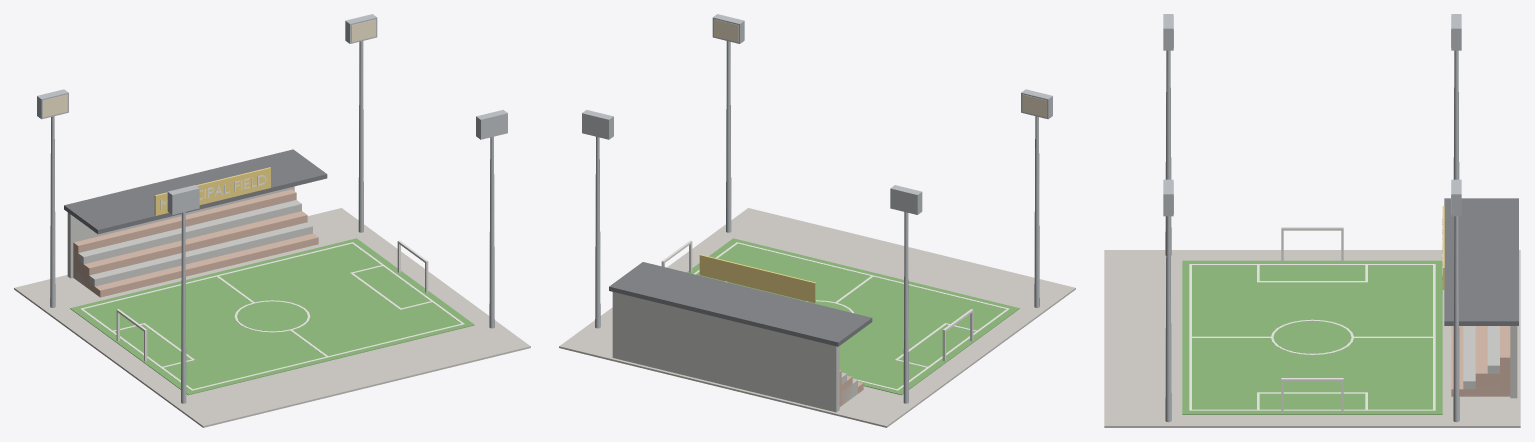
Rendered from sports_field.glb.
3 views of the same model, side by side, from view 1: azimuth 30°, elevation 25°; view 2: azimuth 150°, elevation 25°; view 3: azimuth 270°, elevation 25° (orthographic). The views are drawn at different scales.
Parts seen in each view (by area): view 1: sports_field; view 2: sports_field; view 3: sports_field.
Boxes of the visible parts, <box> form: sports_field: <box>14,14,530,427</box>; sports_field: <box>559,14,1075,427</box>; sports_field: <box>1104,14,1520,427</box>.
Bounding box in the file's own units: 24.6 × 15 × 24.
